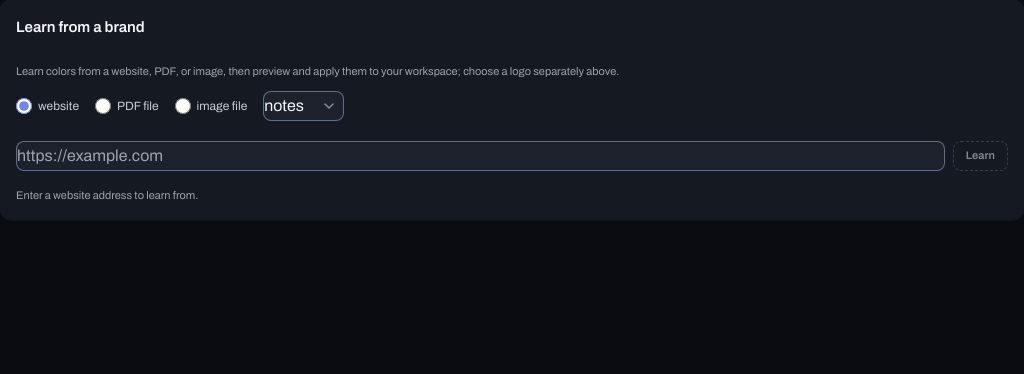
BrandLearn — the restored /theme extraction flow › Discard reverts the un-persisted preview to the stored appearance
Type "https://acme.example" into the field with test id "learn-input" at (480,156), box [16,141,945,171]
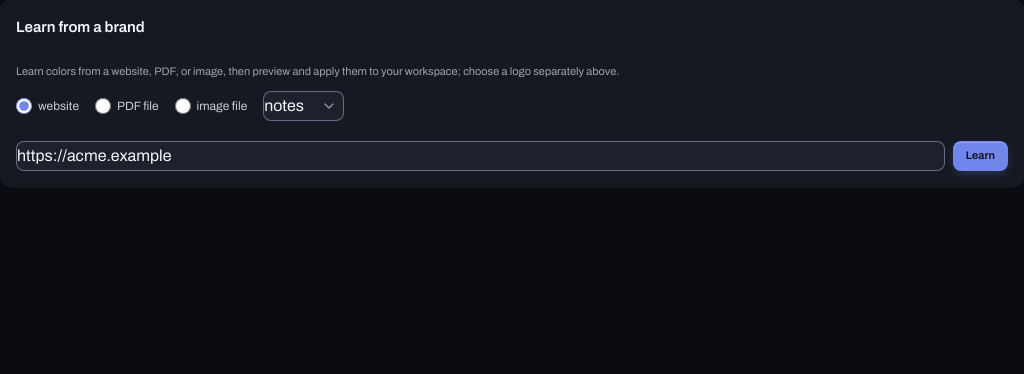
Click the button with test id "learn-submit" at (980,156), box [953,141,1008,171]
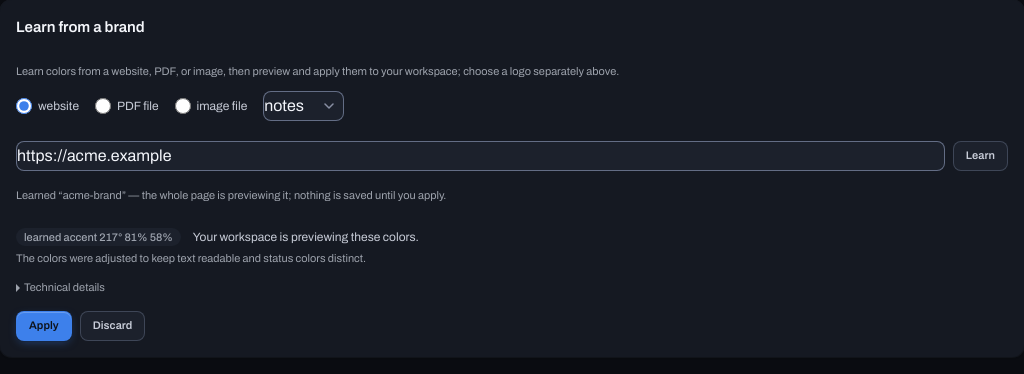
Click the button with test id "learn-discard" at (112,326), box [80,310,145,340]
Wait 1000 ms
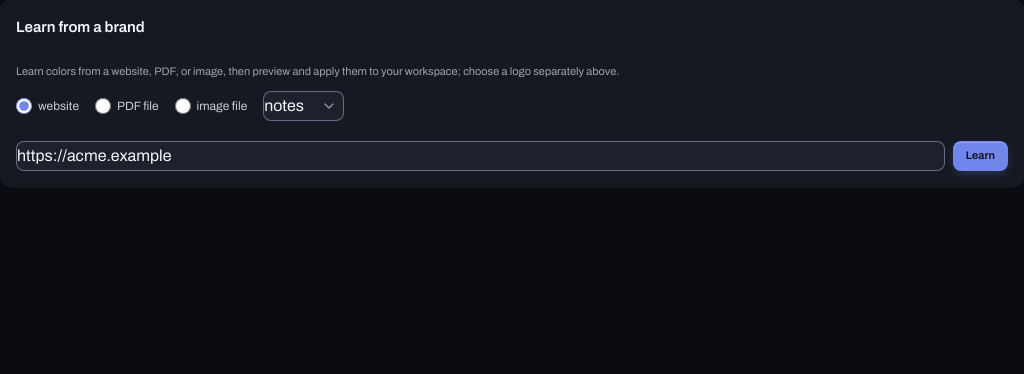
expect the button with test id "learn-apply" is gone: met
